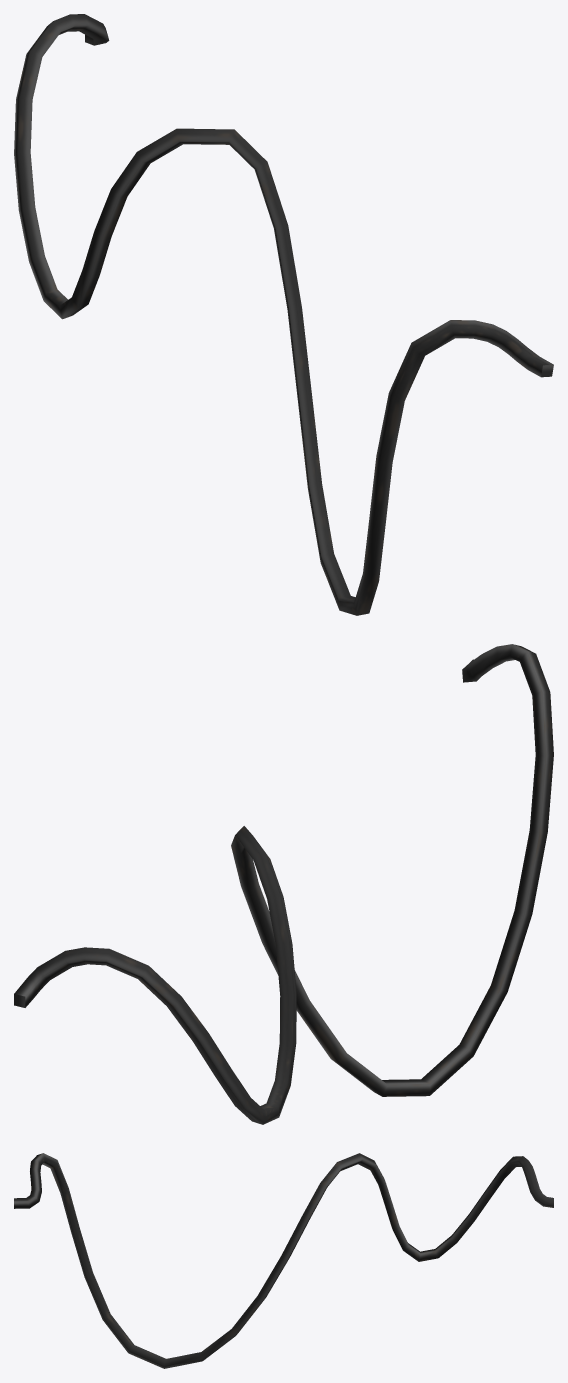
Rendered from cablePipe02_A.fbx.
3 views of the same model, one above another, from view 1: azimuth 30°, elevation 25°; view 2: azimuth 150°, elevation 25°; view 3: azimuth 270°, elevation 25° (orthographic). The views are drawn at different scales.
Visible parts, largest first — view 1: cablePipe02_A; view 2: cablePipe02_A; view 3: cablePipe02_A.
Boxes of the visible parts, x1=… form: cablePipe02_A: x1=14, y1=14, x2=553, y2=615; cablePipe02_A: x1=14, y1=644, x2=553, y2=1124; cablePipe02_A: x1=14, y1=1153, x2=553, y2=1368.
Bounding box in the file's own units: 57.32 × 132 × 300.
